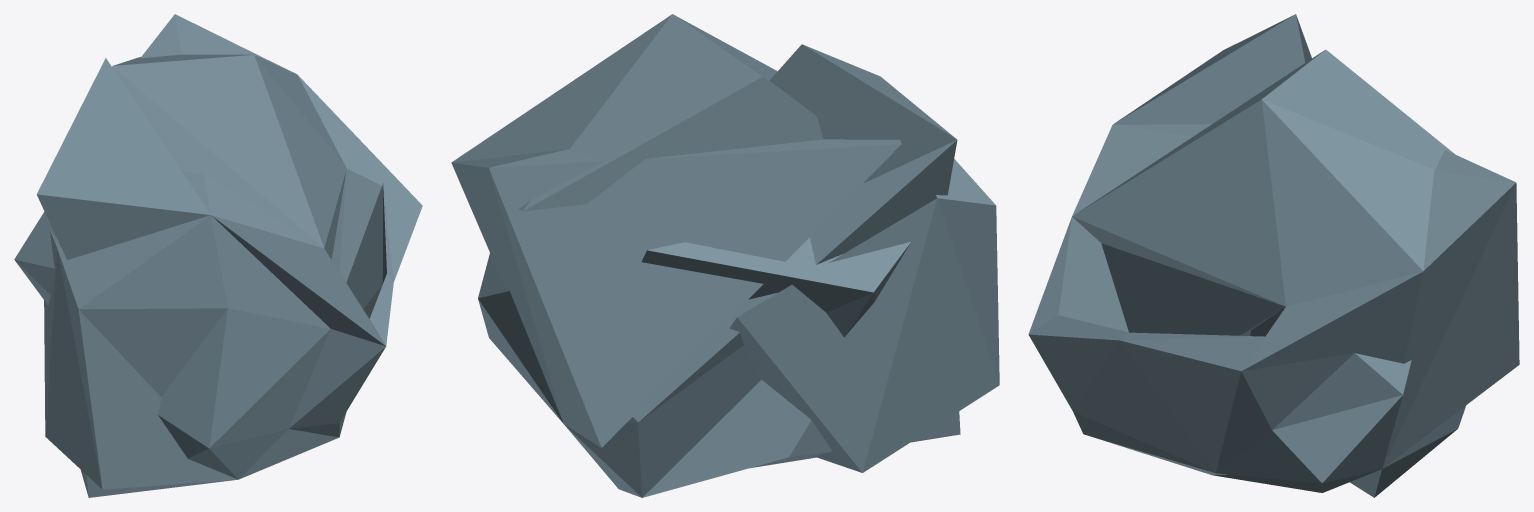
File: climbingstone.fbx
3 renders of one model, left to right at view 1: azimuth 30°, elevation 25°; view 2: azimuth 150°, elevation 25°; view 3: azimuth 270°, elevation 25°, orthographic. The views are drawn at different scales.
Visible parts, largest first — view 1: mesh_282272328; view 2: mesh_282272328; view 3: mesh_282272328.
Boxes of the visible parts, x1,y1,x2,y2 form: mesh_282272328: [14, 14, 422, 497]; mesh_282272328: [451, 14, 999, 497]; mesh_282272328: [1028, 14, 1519, 497].
Size of the model in its own units: 59.93 by 58.19 by 61.73.
